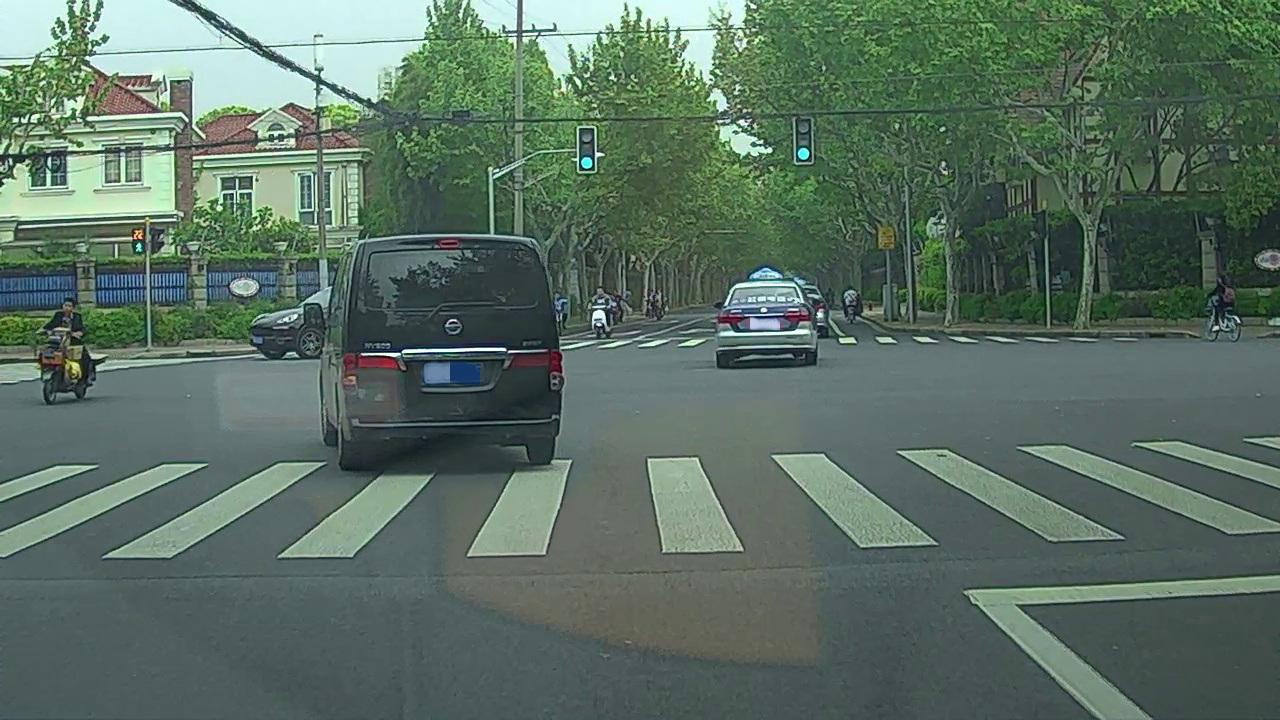traffic_light: (579, 127, 596, 171), (796, 119, 813, 163)
